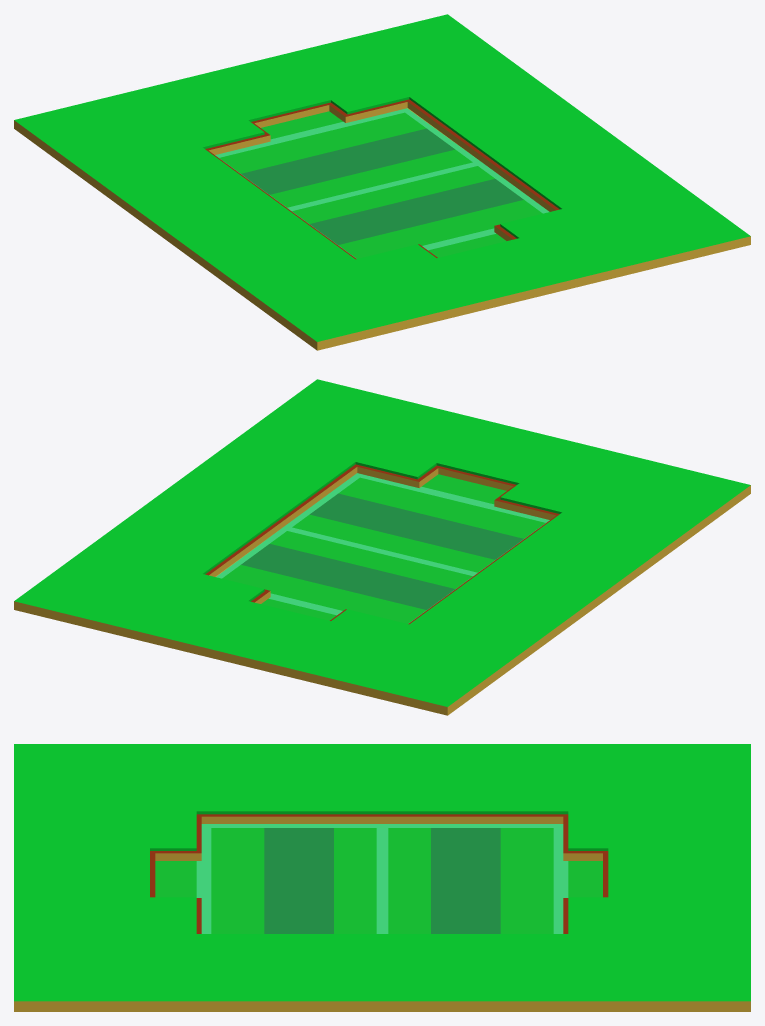
Rendered from Green_Plane.fbx.
3 renders of one model, top to bottom at view 1: azimuth 30°, elevation 25°; view 2: azimuth 150°, elevation 25°; view 3: azimuth 270°, elevation 25°, orthographic. The views are drawn at different scales.
Parts seen in each view (by area): view 1: Green_Plane; view 2: Green_Plane; view 3: Green_Plane.
Part boxes in pixels (x1=…): Green_Plane: x1=14, y1=14, x2=750, y2=350; Green_Plane: x1=14, y1=379, x2=750, y2=715; Green_Plane: x1=14, y1=744, x2=750, y2=1011.
Bounding box in the file's own units: 90 × 109 × 1.72.
